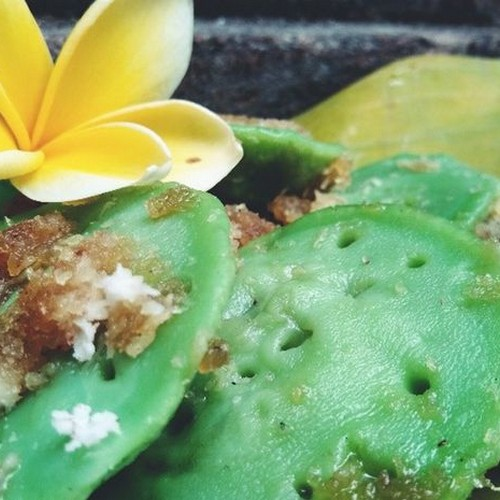laklak: (1, 209, 500, 500)
